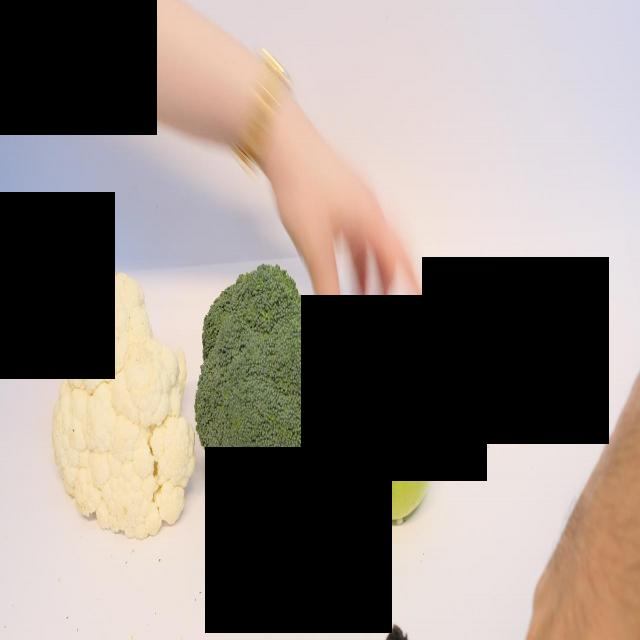apple: (344, 344, 437, 535)
broccoli: (197, 252, 349, 562)
cauliflower: (48, 265, 197, 542)
